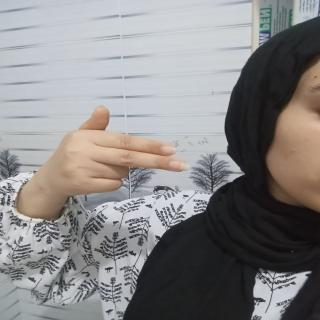GHAYN: (34, 100, 191, 210)
